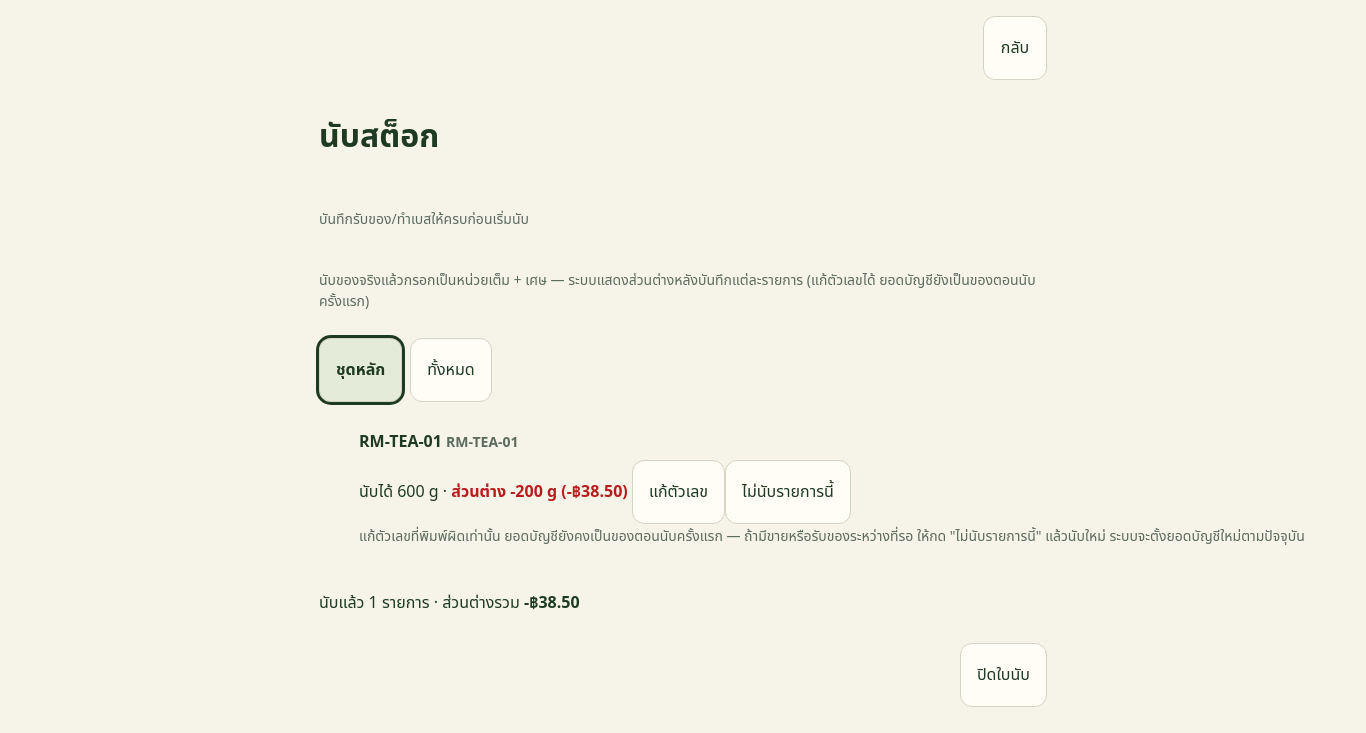
Test case: CountScreen — OPENING_COUNT_INCOMPLETE shows the missing item codes (review m-3) › shows the codes from the server detail, not just the fixed Thai text
The width and height of the screenshot is (1366, 733).
Click the button with test id "count-close": (1003, 675) [960, 643, 1047, 707]
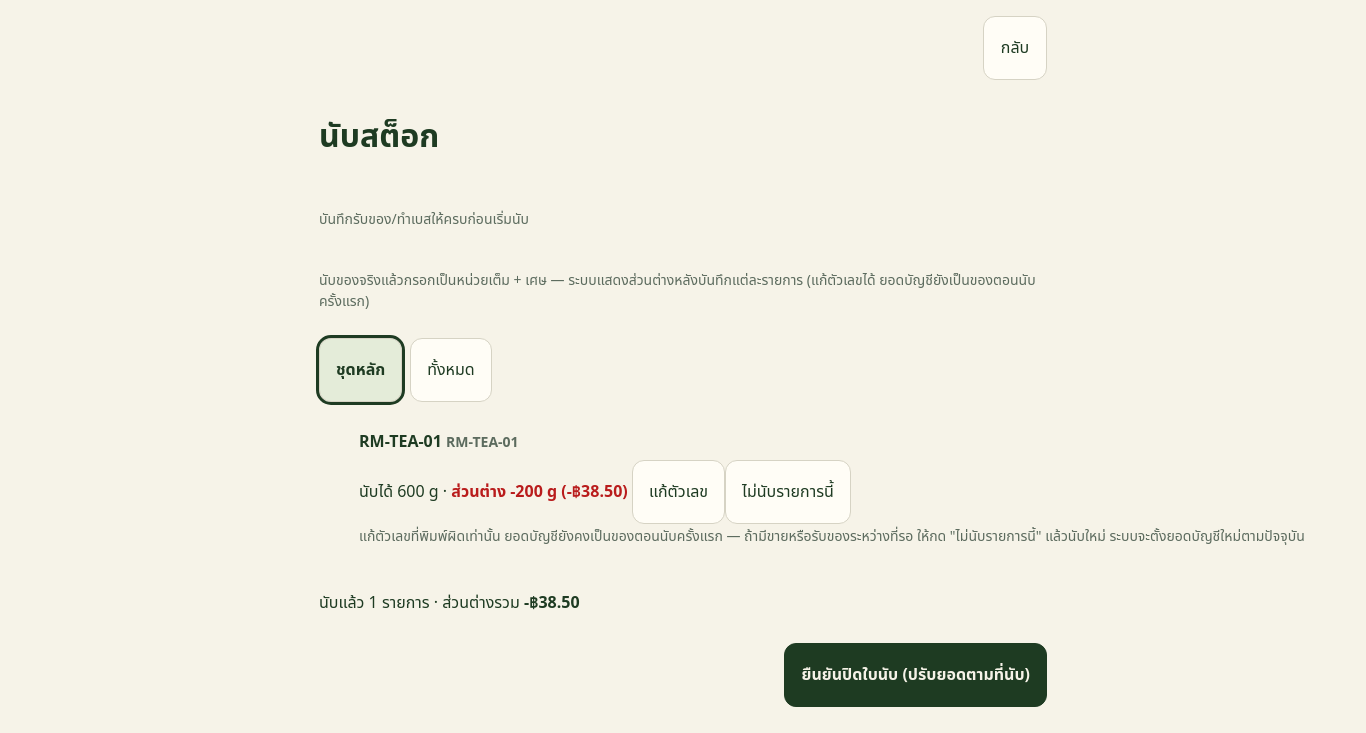
Click the button with test id "count-close-confirm": (916, 675) [784, 643, 1047, 707]
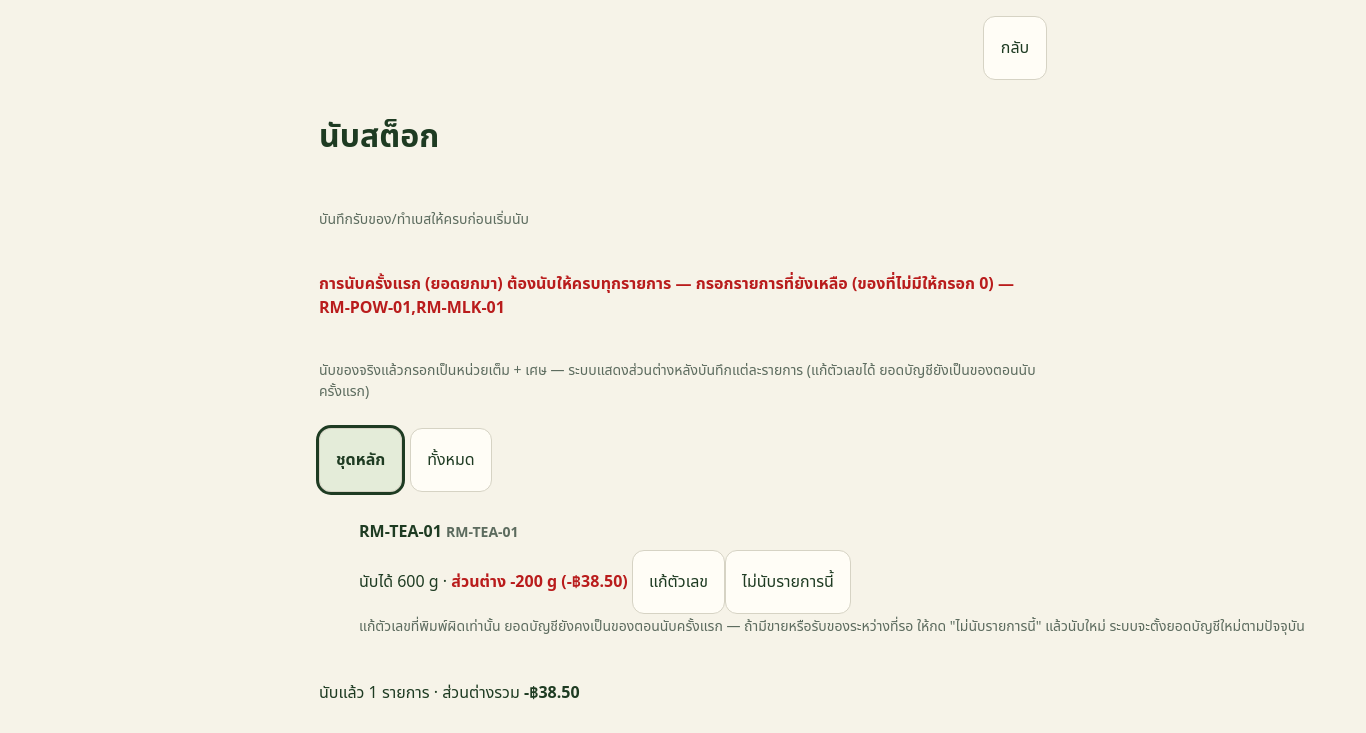
Expected: the message shows "RM-POW-01", [319, 272, 1014, 318]
Expected: the message shows "RM-MLK-01", [319, 272, 1014, 318]
